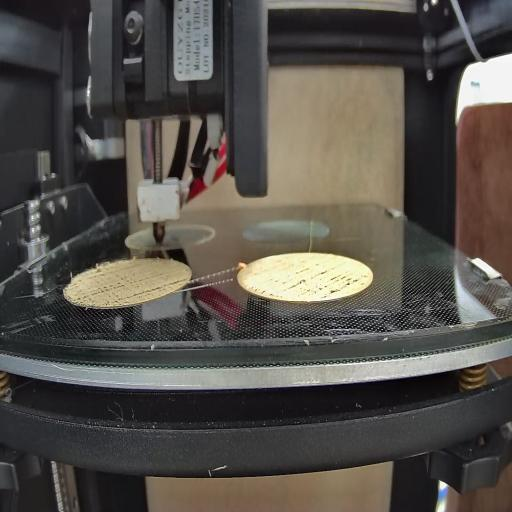under_extrusion: (73, 264, 188, 300), (251, 268, 364, 298)
